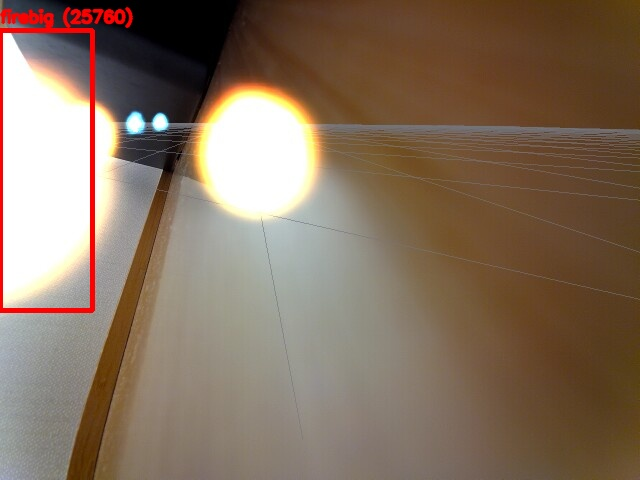firebig: (0, 30, 92, 310)
